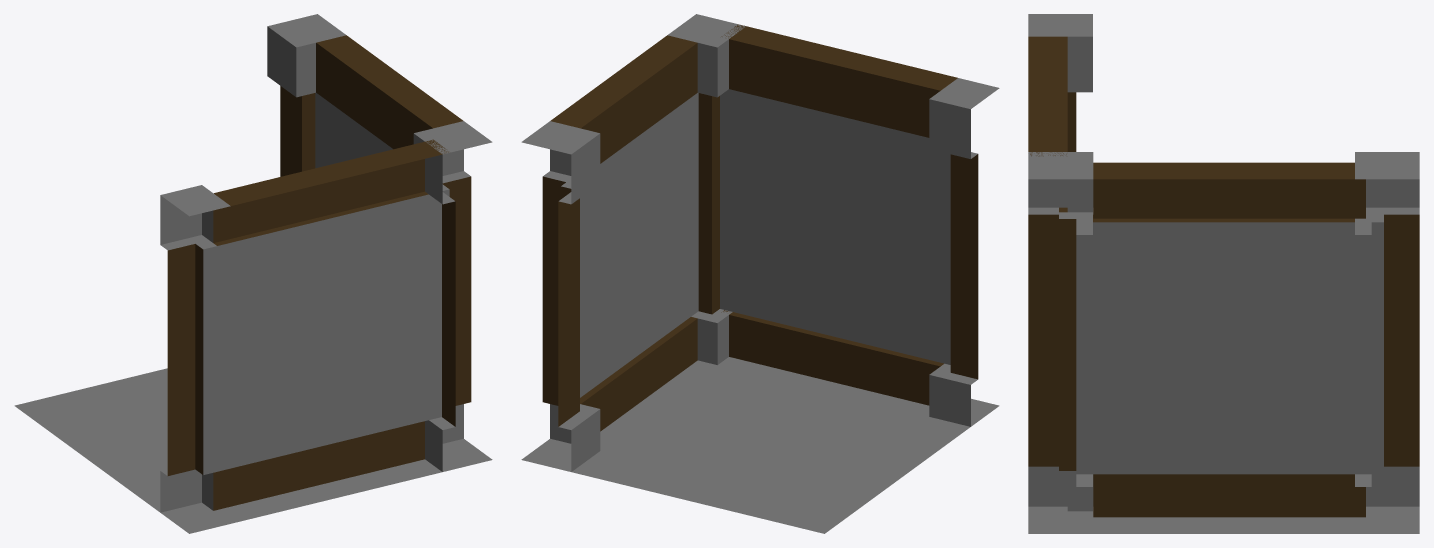
Rendered from DungeonWalls.fbx.
3 views of the same model, side by side, from view 1: azimuth 30°, elevation 25°; view 2: azimuth 150°, elevation 25°; view 3: azimuth 270°, elevation 25° (orthographic). The views are drawn at different scales.
Visible parts, largest first — view 1: Plane.001, Plane.000, Plane.003, Plane.020; view 2: Plane.001, Plane.000, Plane.003, Plane.020; view 3: Plane.001, Plane.020, Plane.000, Plane.003.
Boxes of the visible parts, x1,y1,x2,y2 form: Plane.001: (141, 26, 492, 512); Plane.000: (141, 121, 491, 510); Plane.003: (14, 133, 471, 526); Plane.020: (168, 14, 492, 533); Plane.001: (550, 14, 999, 471); Plane.000: (613, 14, 968, 462); Plane.003: (521, 60, 997, 533); Plane.020: (521, 121, 999, 466); Plane.001: (1028, 14, 1383, 517); Plane.020: (1028, 152, 1419, 533); Plane.000: (1028, 36, 1419, 533); Plane.003: (1028, 179, 1419, 533).
Bounding box in the file's own units: 200 × 200 × 200.
